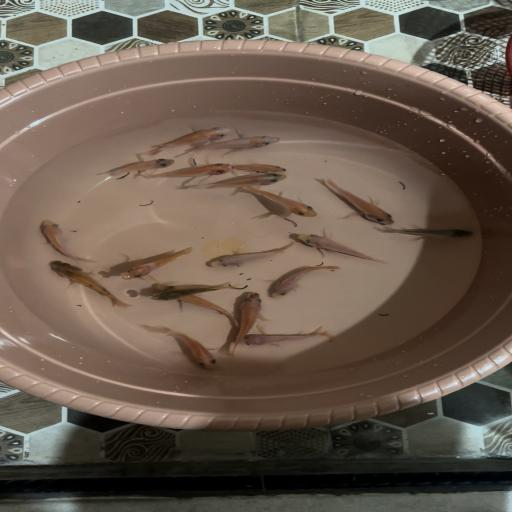nila: (27, 259, 133, 309), (142, 282, 242, 328), (143, 325, 226, 372), (318, 176, 396, 226), (134, 122, 234, 159), (288, 231, 398, 264), (219, 290, 271, 356), (267, 263, 348, 301), (199, 240, 299, 270), (114, 246, 196, 282), (235, 187, 324, 220), (175, 132, 285, 158), (34, 216, 96, 262), (188, 172, 289, 196), (238, 326, 338, 348), (142, 161, 232, 185), (146, 279, 237, 301), (97, 156, 179, 178), (374, 225, 477, 241), (226, 159, 296, 175)
